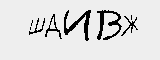В: (97, 8, 122, 44)
Д: (44, 12, 60, 39)
Ж: (122, 13, 140, 37)
И: (64, 8, 93, 41)
Ш: (25, 17, 47, 35)
